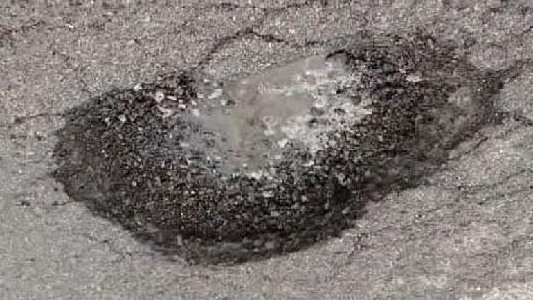pothole: (44, 28, 512, 274)
